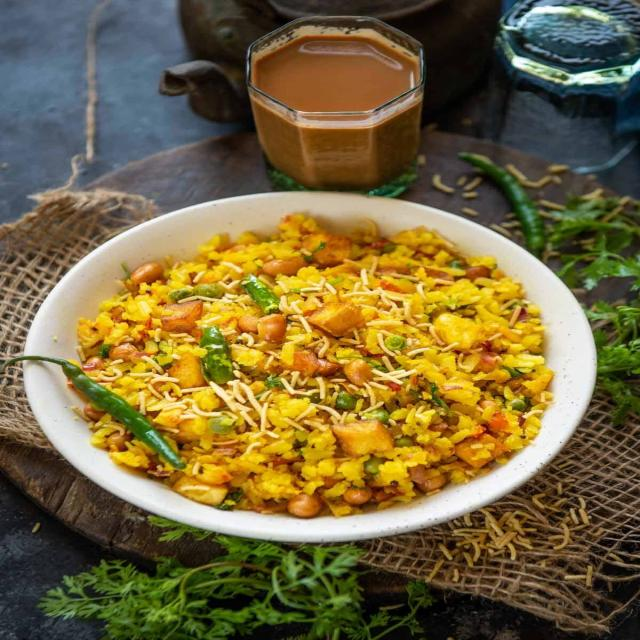POHA: (74, 214, 552, 514)
